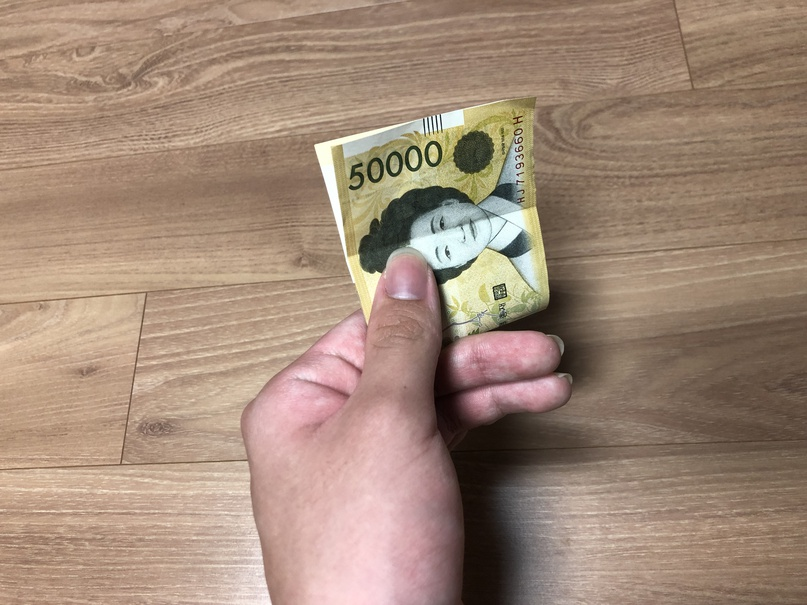50000won: (315, 95, 551, 349)
